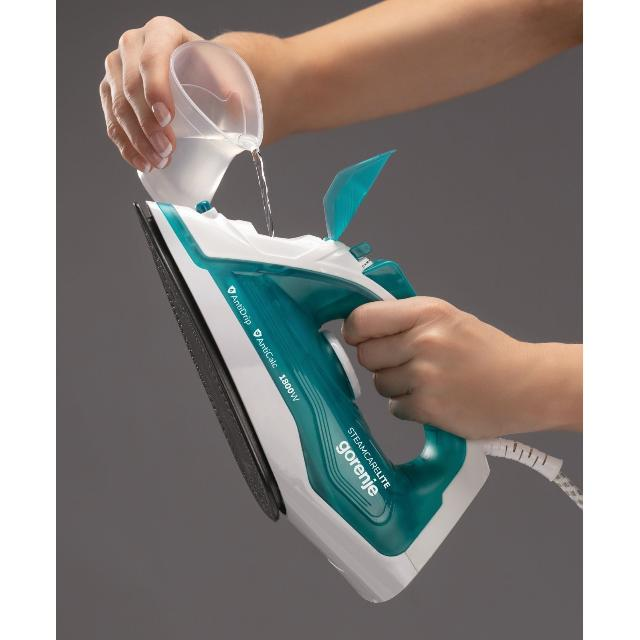Clothes-Iron: (125, 193, 565, 612)
